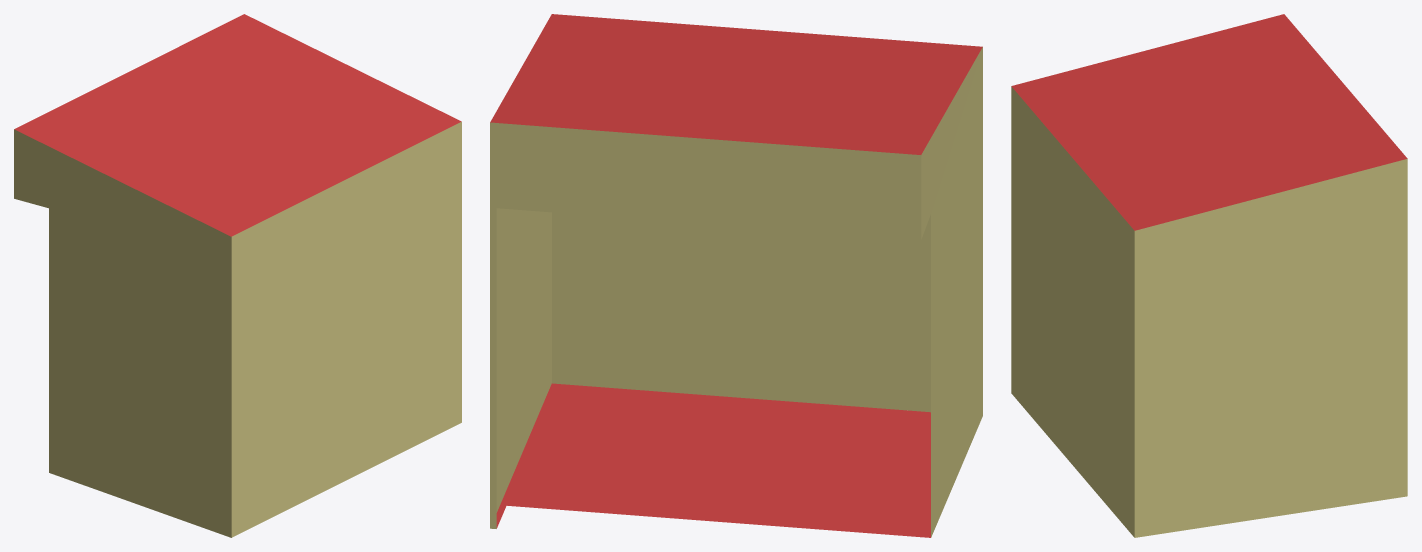
The picture shows the model from 3 angles, left to right: view 1: azimuth 30°, elevation 25°; view 2: azimuth 150°, elevation 25°; view 3: azimuth 270°, elevation 25°; orthographic projection. The views are drawn at different scales.
Parts seen in each view (by area): view 1: group_4, group_3; view 2: group_4, group_5, group_3; view 3: group_4, group_3.
Part boxes in pixels (x1,y1,x2,y2): group_4: [14, 121, 461, 537]; group_3: [14, 14, 461, 236]; group_4: [490, 47, 982, 537]; group_5: [496, 383, 930, 537]; group_3: [490, 14, 982, 154]; group_4: [1011, 86, 1407, 537]; group_3: [1011, 14, 1407, 230].
Bounding box in the file's own units: 9.61 × 8.64 × 8.12.
